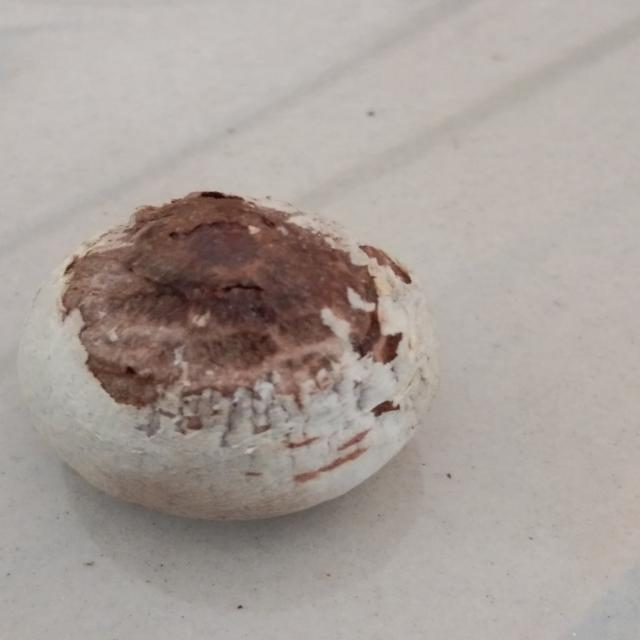karigot: (1, 176, 438, 524)
